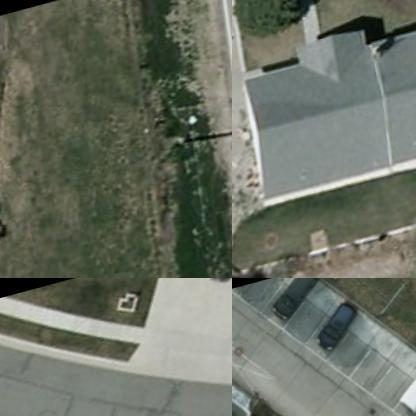car: (264, 278, 334, 328), (311, 300, 367, 354), (198, 278, 231, 290)
van: (390, 356, 415, 415)
